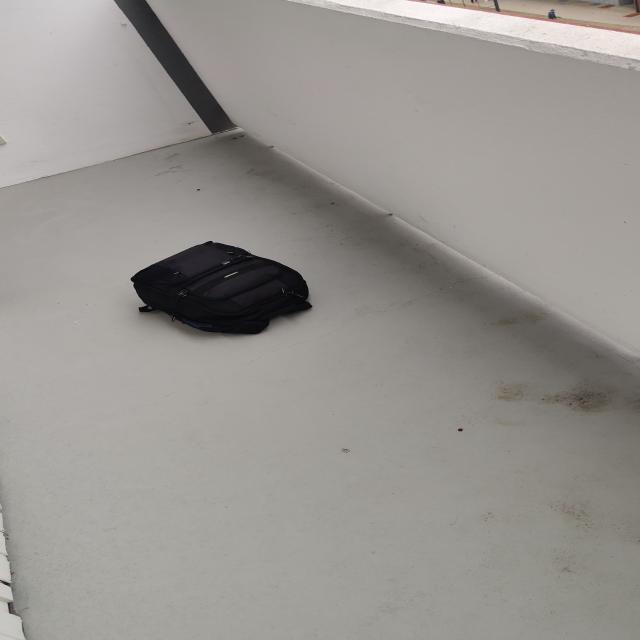backpack: (122, 238, 319, 335)
